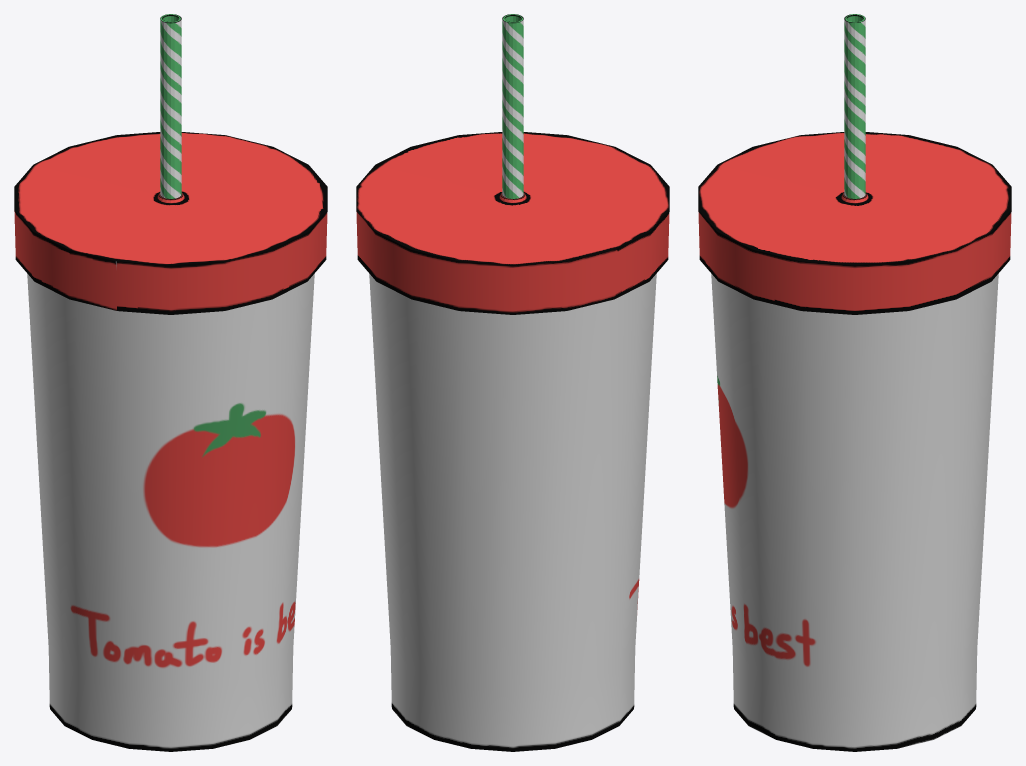
The model's file is tumbler.FBX.
3 renders of one model, left to right at view 1: azimuth 30°, elevation 25°; view 2: azimuth 150°, elevation 25°; view 3: azimuth 270°, elevation 25°, orthographic.
Parts seen in each view (by area): view 1: Cylinder001; view 2: Cylinder001; view 3: Cylinder001.
Part boxes in pixels (x1,y1,x2,y2): Cylinder001: (14,14,327,751); Cylinder001: (356,14,669,751); Cylinder001: (698,14,1011,751).
Bounding box in the file's own units: 10.62 × 25.11 × 10.45.
